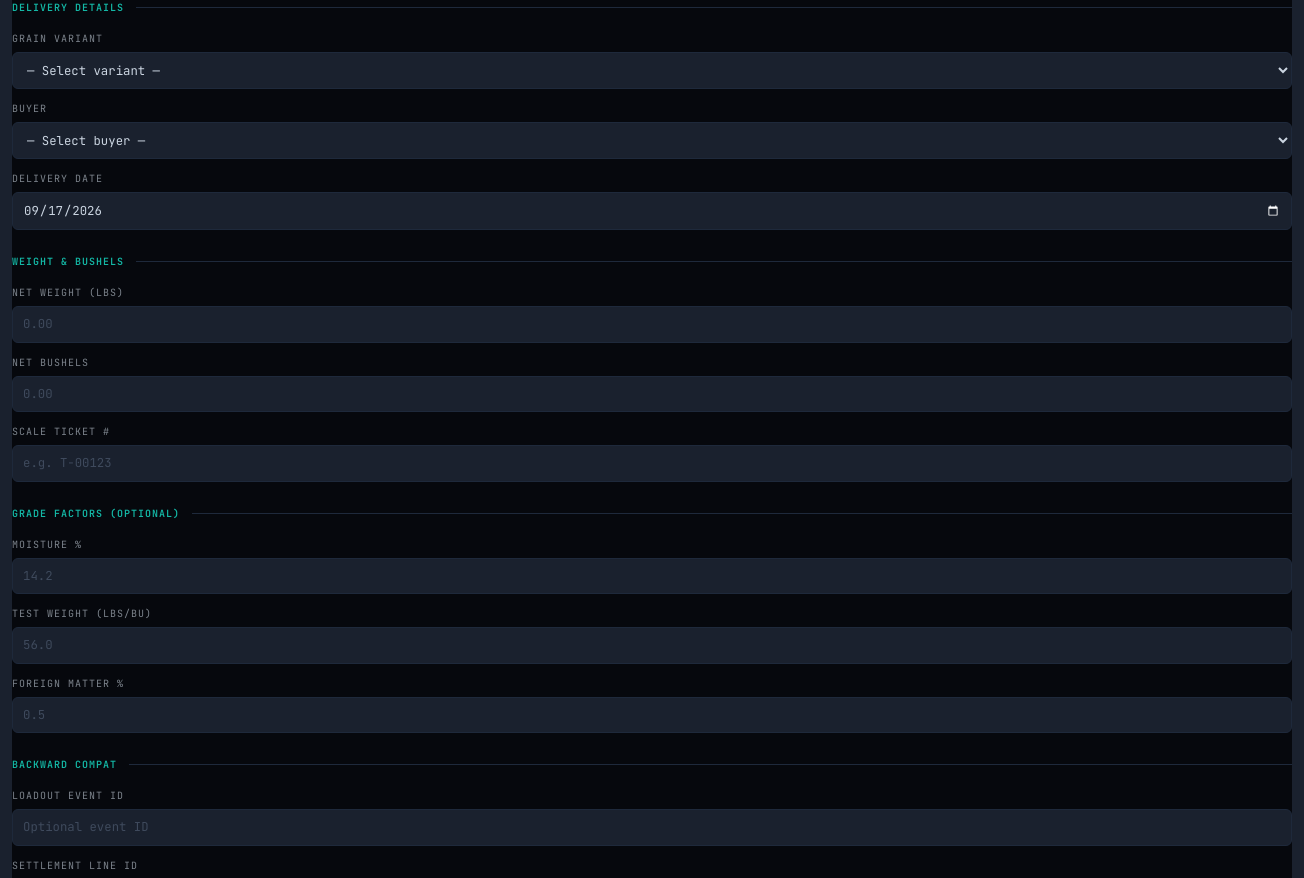
Test case: DeliveryForm duplicate warning › changing a matched field resets the acknowledgment
The width and height of the screenshot is (1304, 878).
Select "Yellow Corn" in the dropdown labelled "Grain Variant" at point(652, 70), box [12,52,1292,89]
Select "Test Elevator" in the dropdown labelled "Buyer" at point(652, 140), box [12,122,1292,159]
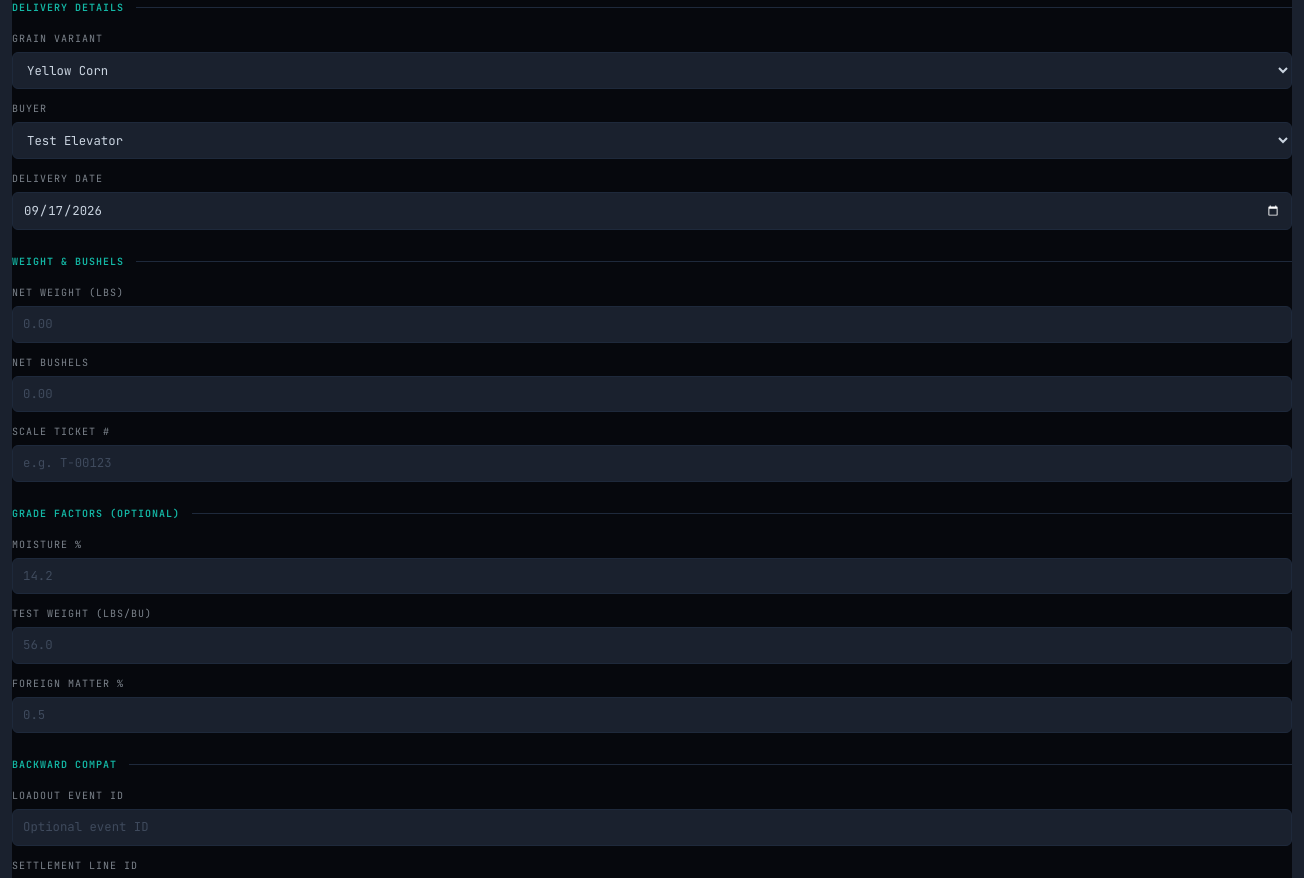
Type "2025-10-15" into the date field labelled "Delivery Date" at point(652, 211), box [12,192,1292,230]
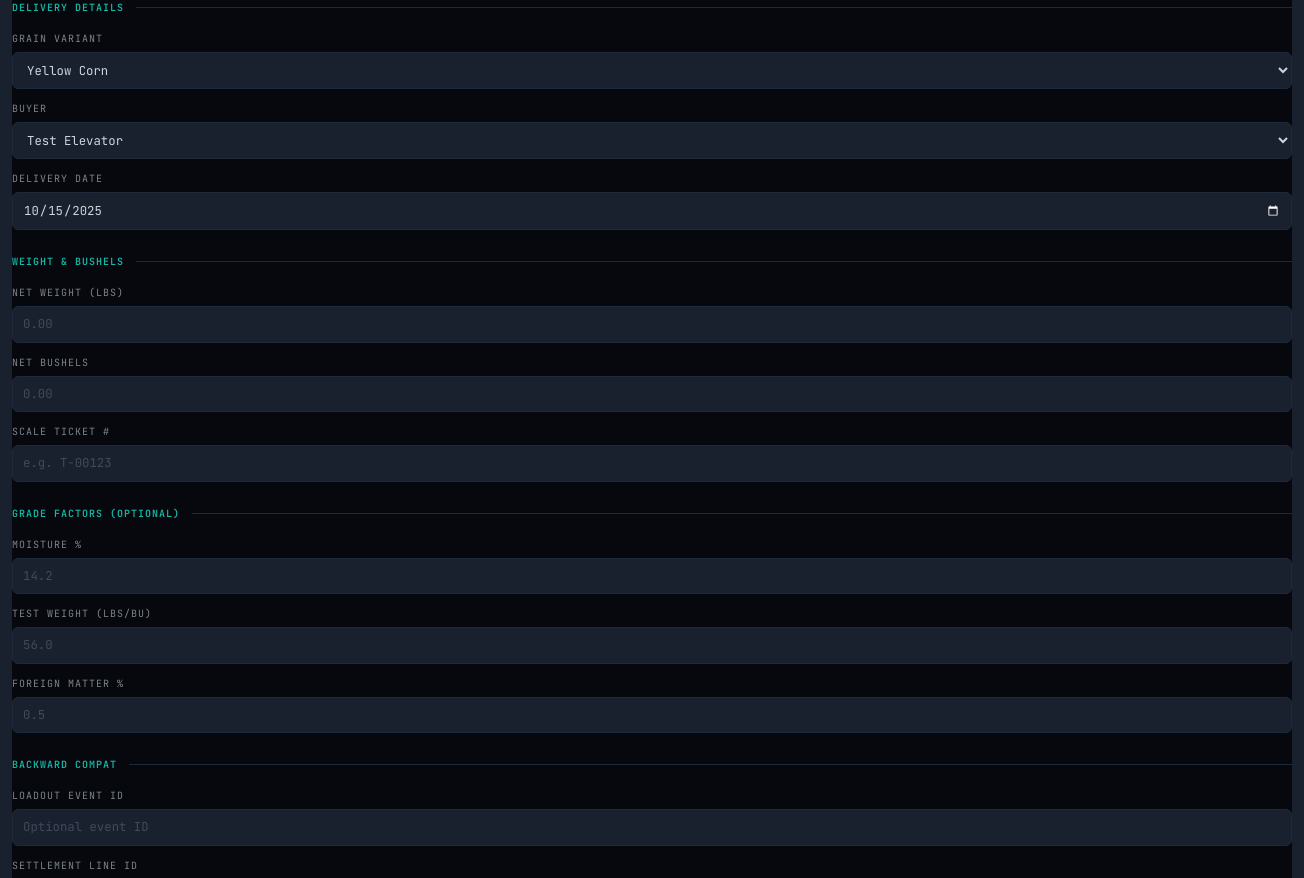
Type "56000" into the number field labelled "Net Weight (lbs)" at point(652, 325), box [12,306,1292,343]
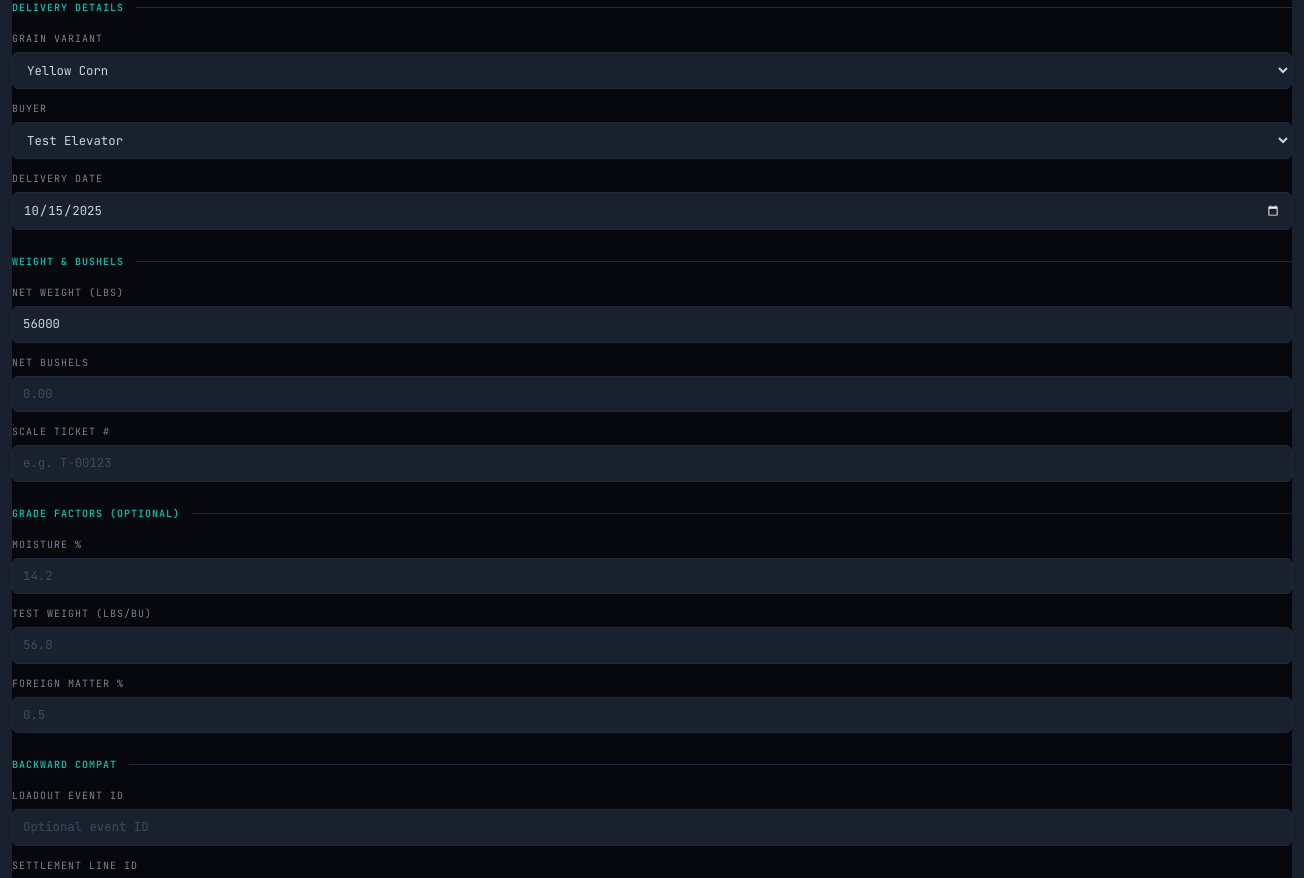
Type "1000" into the number field labelled "Net Bushels" at point(652, 394), box [12,376,1292,412]
(page scrolled)
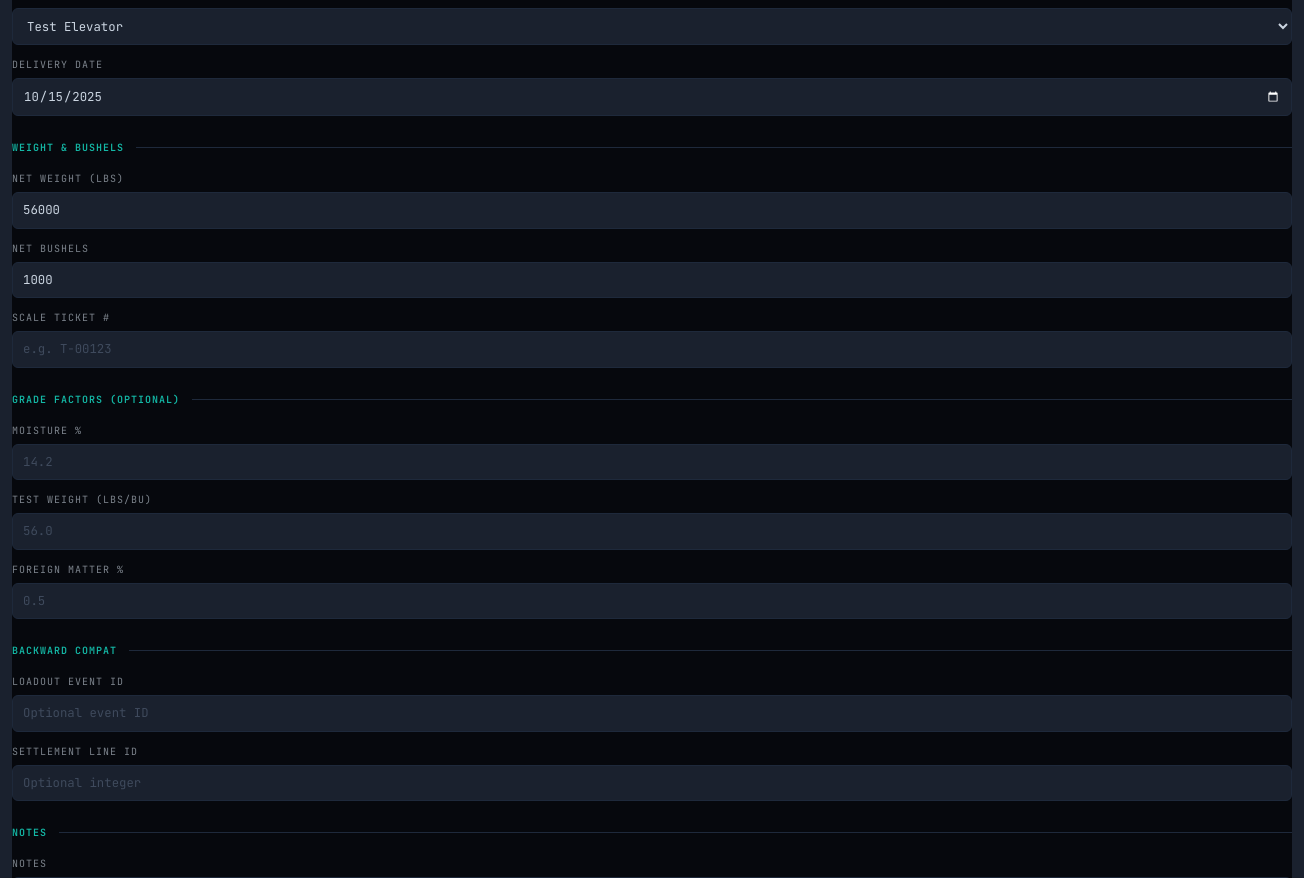
Submit the form named "log delivery"
Replace the text in the number field labelled "Net Bushels" with "1001" at point(652, 280), box [12,262,1292,298]
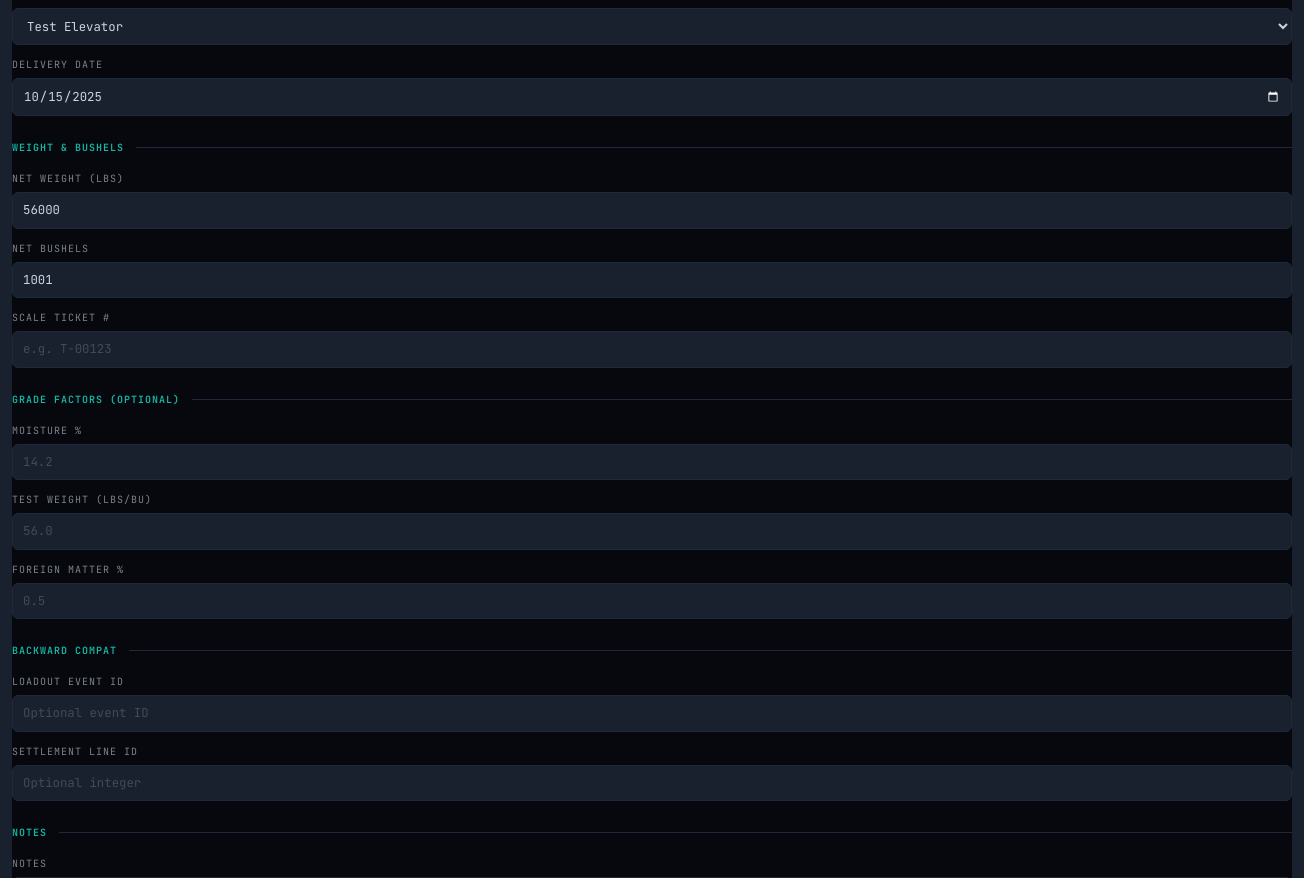
Submit the form named "log delivery"
(page scrolled)
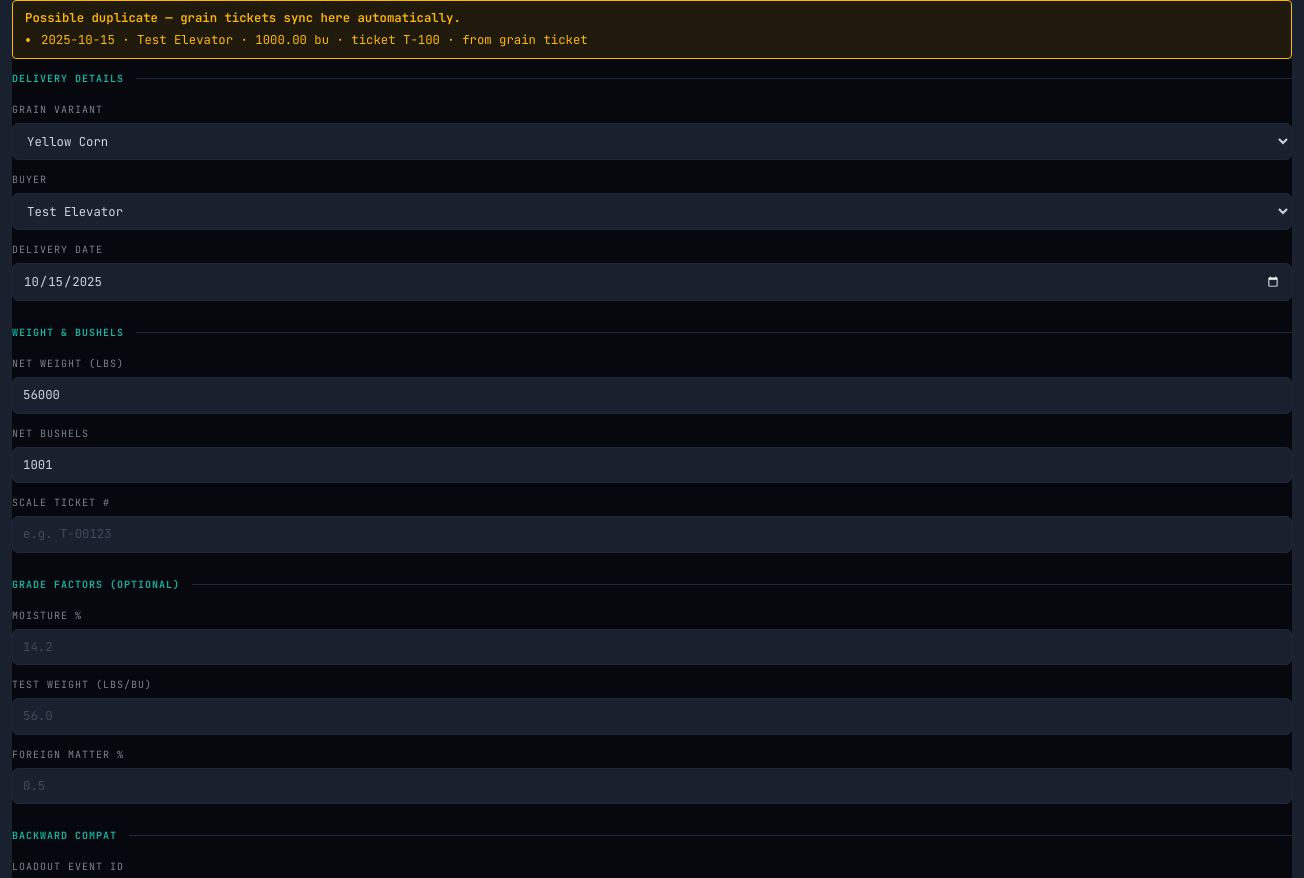
Result: the text "Possible duplicate — grain tickets sync here automatically." is shown at [25,9,461,26]
